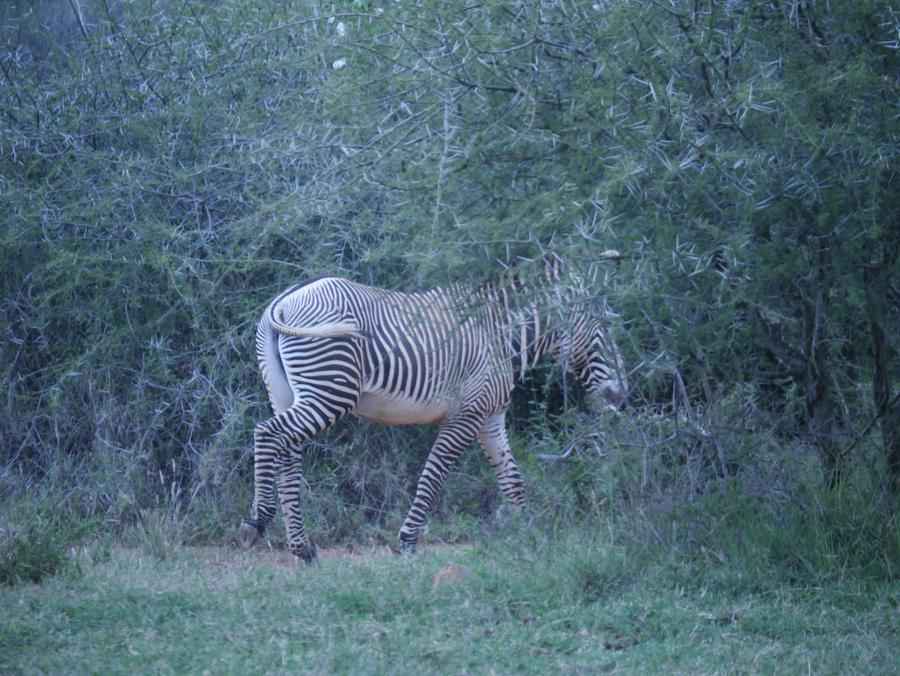zebra_grevys: (263, 265, 488, 416)
